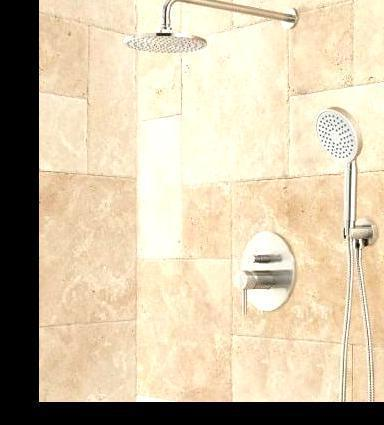Ducha: (39, 0, 384, 401)
